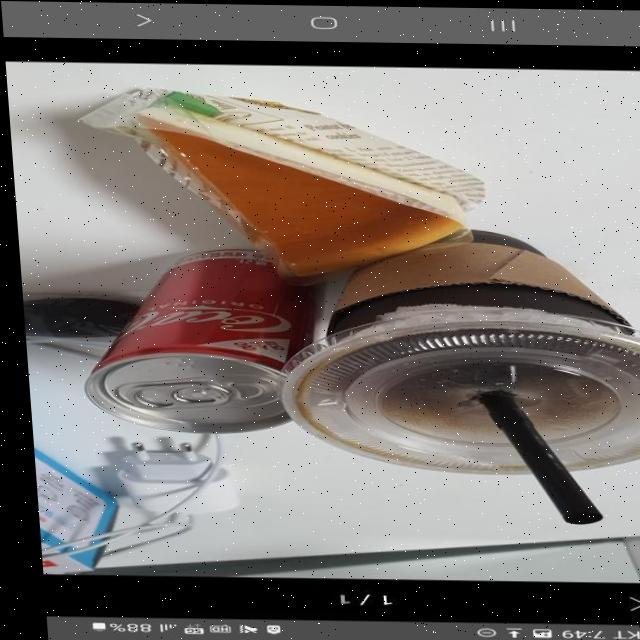cup: (238, 222, 640, 484)
